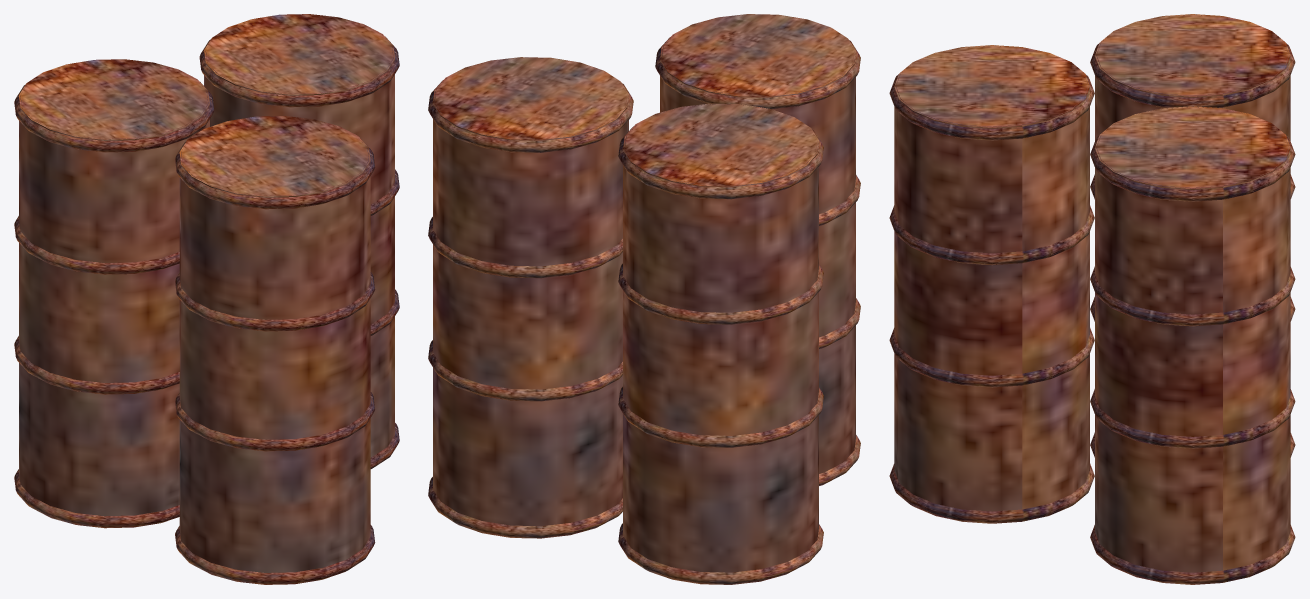
File: David_barrels.fbx
3 renders of one model, left to right at view 1: azimuth 30°, elevation 25°; view 2: azimuth 150°, elevation 25°; view 3: azimuth 270°, elevation 25°, orthographic. The views are drawn at different scales.
Visible parts, largest first — view 1: pTorus10, pTorus9, pTorus8; view 2: pTorus9, pTorus8, pTorus10; view 3: pTorus10, pTorus8, pTorus9.
Part boxes in pixels (x1,y1,x2,y2): pTorus10: (175, 116, 375, 584); pTorus9: (14, 59, 214, 528); pTorus8: (199, 14, 399, 468); pTorus9: (618, 103, 823, 584); pTorus8: (428, 57, 633, 538); pTorus10: (655, 14, 860, 485); pTorus10: (889, 45, 1094, 523); pTorus8: (1090, 106, 1295, 584); pTorus9: (1090, 14, 1295, 457).
Bounding box in the file's own units: 4.33 × 4.5 × 4.15.
Materials: 2 (2 with a texture image).
